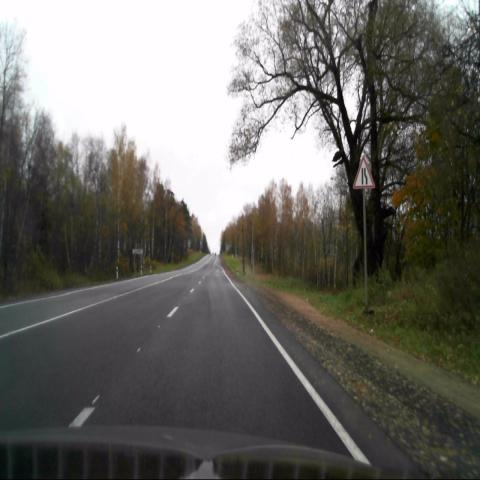1_20_2: (353, 158, 375, 190)
